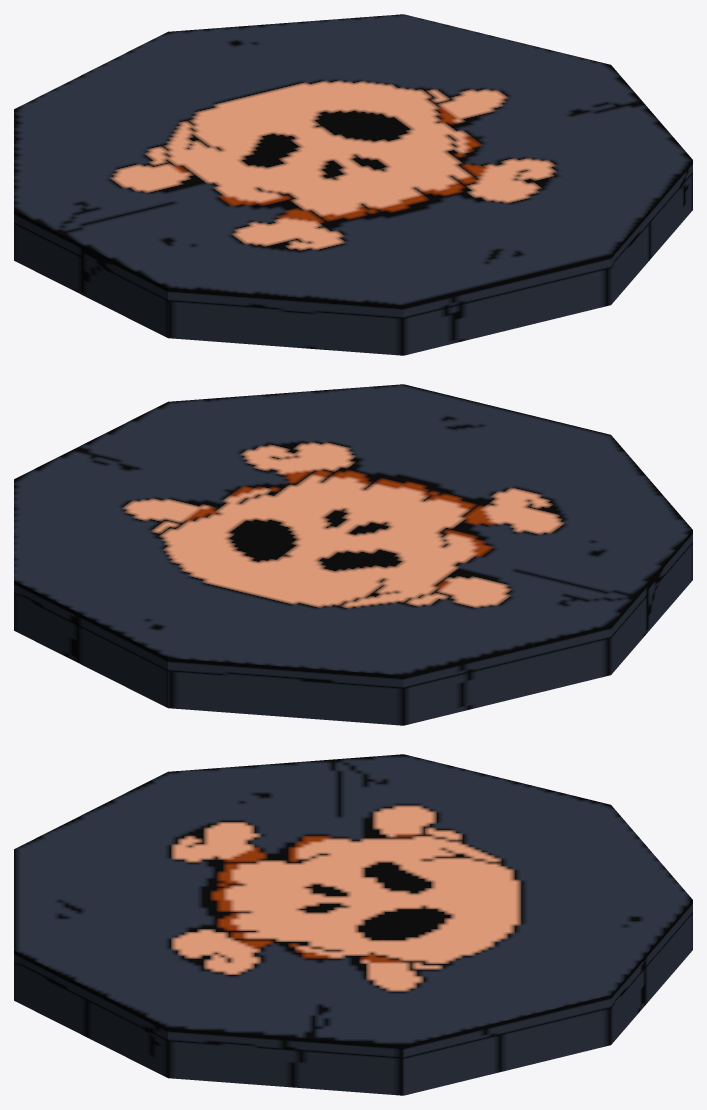
The model's file is DeathPlatform.obj.
The picture shows the model from 3 angles, top to bottom: view 1: azimuth 30°, elevation 25°; view 2: azimuth 150°, elevation 25°; view 3: azimuth 270°, elevation 25°; orthographic projection.
Visible parts, largest first — view 1: platform; view 2: platform; view 3: platform.
Boxes of the visible parts, box(x1,y1,x2,y2) form: platform: box(14, 14, 692, 355); platform: box(14, 384, 692, 725); platform: box(14, 754, 692, 1095).
Bounding box in the file's own units: 1.4 × 0.1125 × 1.38.
